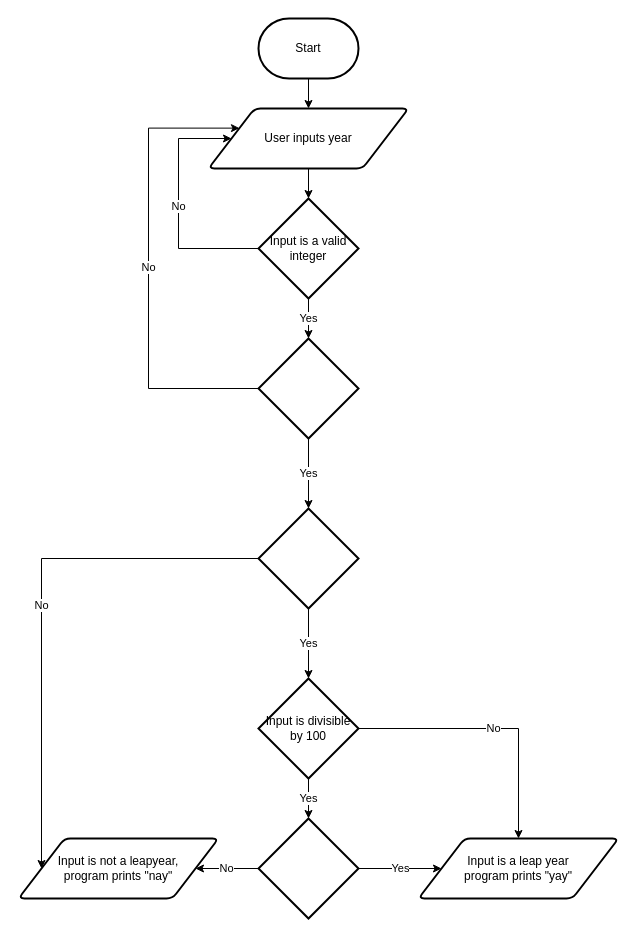
The diagram is 636 pixels wide and 936 high, and some of its shapes have lost their labels. Here are the shapes that lost their labels. From the top down, the centre of each, then its label:
At point (308, 388): "Input is larger than 1582".
At point (308, 558): "Input is divisible by 4".
At point (308, 868): "Input is divisble by 400".
